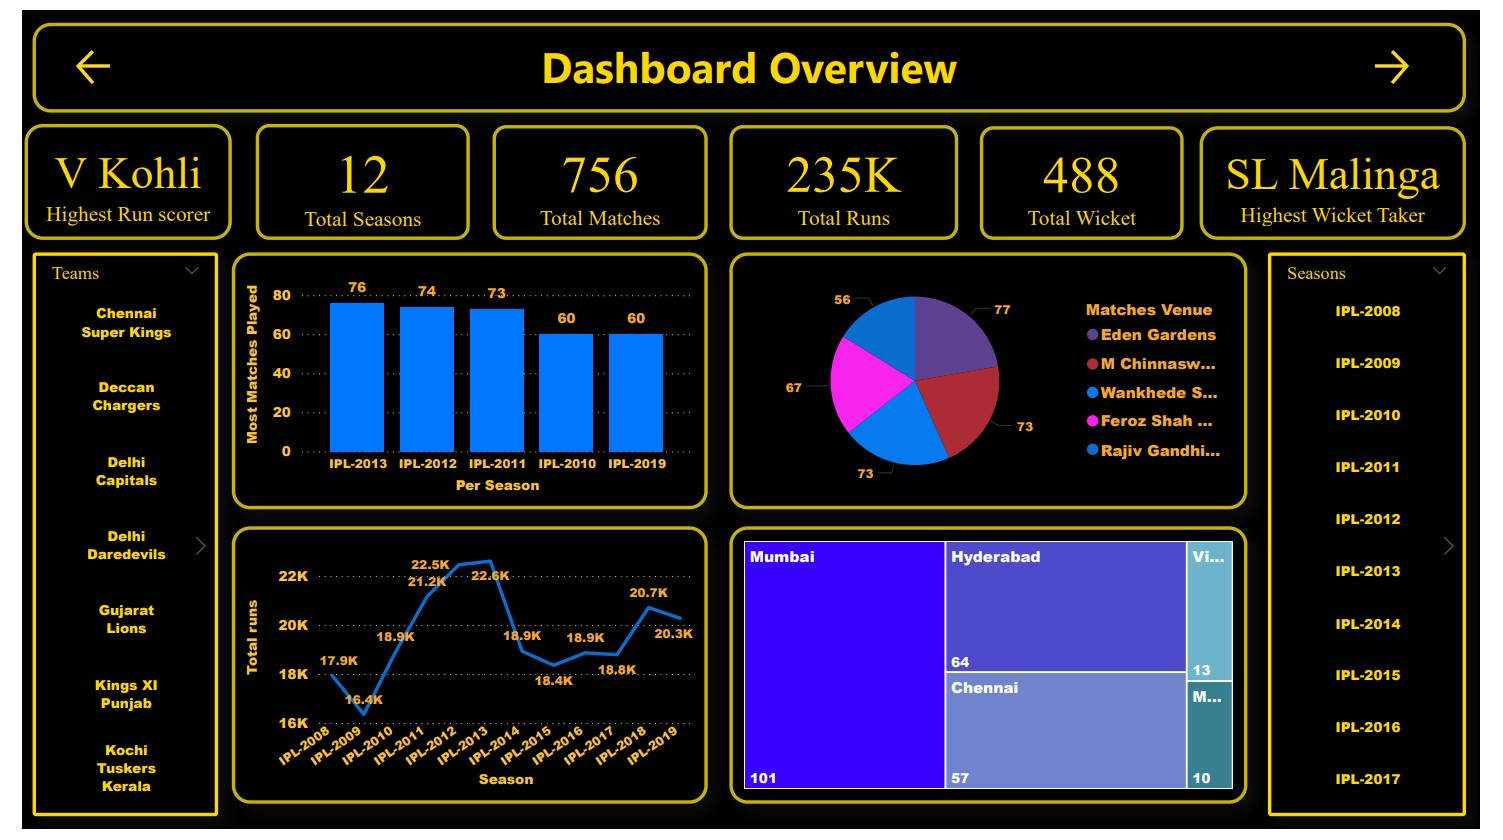

Layout of this report page (visuals, bound fields, positions):
{"tool":"powerbi","page":{"name":"Overview","canvas":[1280,720],"ordinal":1},"visuals":[{"type":"textbox","box":[9,11,1259,79],"z":0},{"type":"card","fields":{"Values":["deliveries.matches.Season"]},"box":[205.2,100.2,187.7,102.1],"z":1000},{"type":"card","fields":{"Values":["deliveries.total_runs"]},"box":[620.5,101.2,201.3,101.2],"z":2000},{"type":"card","fields":{"Values":["deliveries.match_id"]},"box":[413.4,101.2,188.7,101.2],"z":3000},{"type":"card","fields":{"Values":["deliveries.player_dismissed"]},"box":[841.3,102.1,179,100.2],"z":4000},{"type":"slicer","fields":{"Values":["deliveries.matches.team1"]},"box":[8.8,213,163.4,496],"z":5000},{"type":"clusteredColumnChart","fields":{"Y":["deliveries.match_id"],"Category":["deliveries.matches.Season"]},"box":[183.8,213,418.2,225.7],"z":6000},{"type":"lineChart","fields":{"Category":["deliveries.matches.Season"],"Y":["deliveries.total_runs"]},"box":[183.8,454.2,418.2,244.1],"z":7000},{"type":"pieChart","fields":{"Category":["deliveries.matches.venue"],"Y":["deliveries.match_id"]},"box":[620.5,213,455.2,225.7],"z":8000},{"type":"treemap","fields":{"Group":["deliveries.matches.city"],"Values":["deliveries.match_id"]},"box":[620.5,454.2,455.2,244.1],"z":9000},{"type":"slicer","fields":{"Values":["deliveries.matches.Season"]},"box":[1094.2,213,174.1,496],"z":10000},{"type":"card","fields":{"Values":["deliveries.Batsman"]},"box":[1.9,100.2,181.9,102.1],"z":11000},{"type":"card","fields":{"Values":["deliveries.bowler"]},"box":[1033.9,102.1,234.4,100.2],"z":12000},{"type":"actionButton","box":[42.8,30.2,50.6,39.9],"z":13000},{"type":"actionButton","box":[1181.8,30.2,54.5,39.9],"z":14000}]}

Visuals, with their boxes in screenshot pixels (x1, y1, x2, y2), scaled from the page's 1280x720 canvas onto the 1503x840 screenshot:
textbox: rect(11, 13, 1489, 105)
card - deliveries.matches.Season: rect(241, 117, 461, 236)
card - deliveries.total_runs: rect(729, 118, 965, 236)
card - deliveries.match_id: rect(485, 118, 707, 236)
card - deliveries.player_dismissed: rect(988, 119, 1198, 236)
slicer - deliveries.matches.team1: rect(10, 249, 202, 827)
clusteredColumnChart - deliveries.match_id x deliveries.matches.Season: rect(216, 249, 707, 512)
lineChart - deliveries.matches.Season x deliveries.total_runs: rect(216, 530, 707, 815)
pieChart - deliveries.matches.venue x deliveries.match_id: rect(729, 249, 1263, 512)
treemap - deliveries.matches.city x deliveries.match_id: rect(729, 530, 1263, 815)
slicer - deliveries.matches.Season: rect(1285, 249, 1489, 827)
card - deliveries.Batsman: rect(2, 117, 216, 236)
card - deliveries.bowler: rect(1214, 119, 1489, 236)
actionButton: rect(50, 35, 110, 82)
actionButton: rect(1388, 35, 1452, 82)
